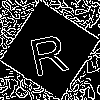R: (25, 25, 70, 77)
